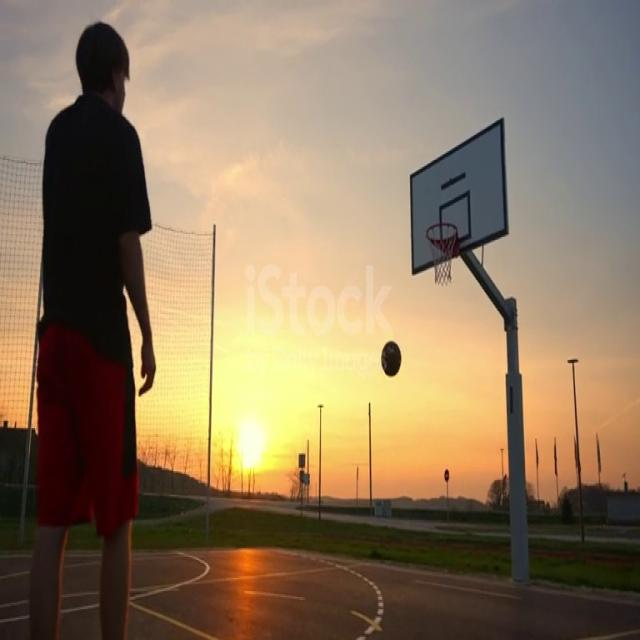ball: (381, 341, 402, 376)
